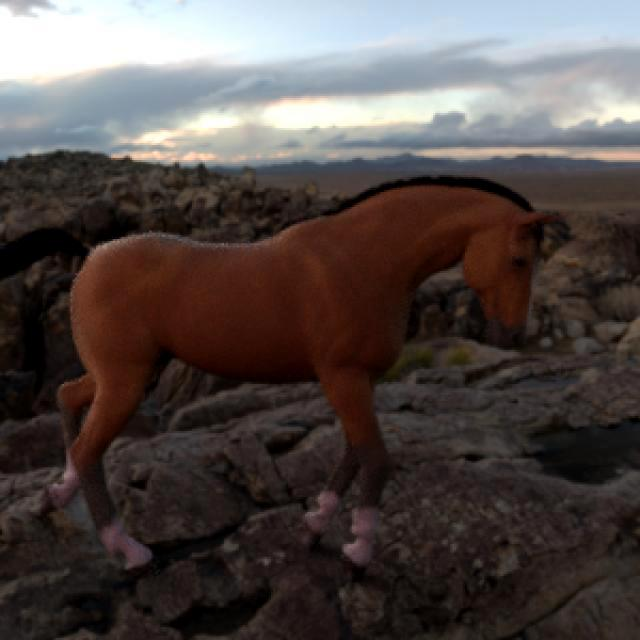horse: (40, 178, 555, 574), (0, 230, 88, 277)
